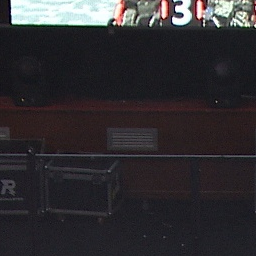Red: (159, 1, 203, 28)
